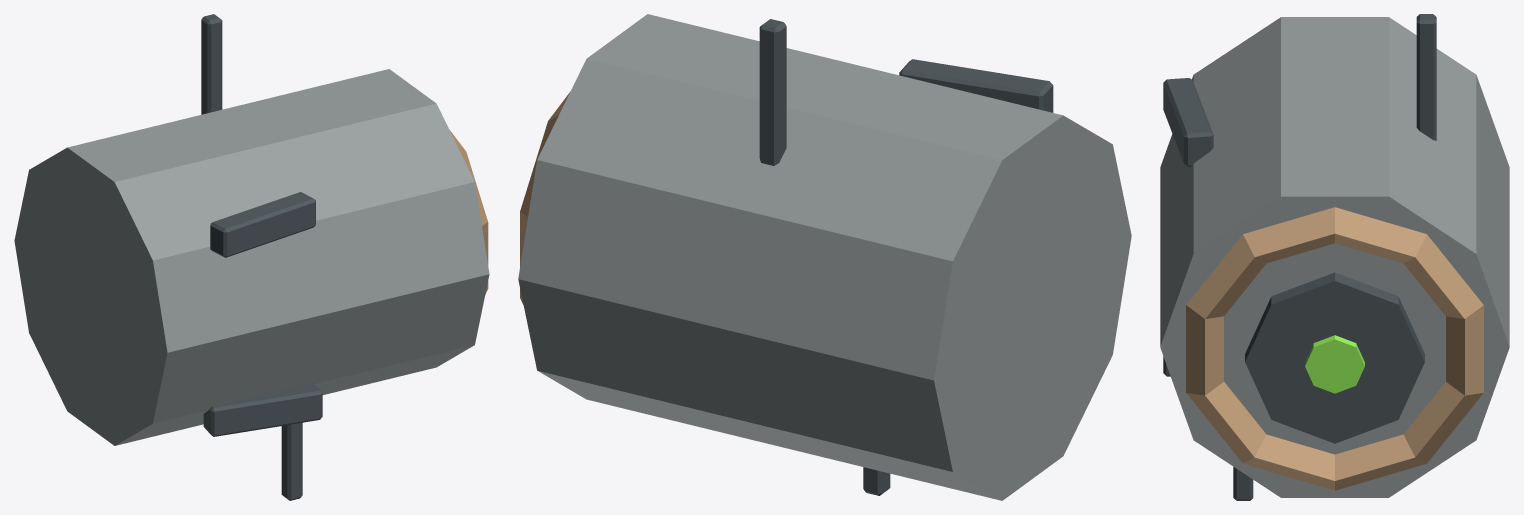
The model's file is CrashedEngine.fbx.
3 renders of one model, left to right at view 1: azimuth 30°, elevation 25°; view 2: azimuth 150°, elevation 25°; view 3: azimuth 270°, elevation 25°, orthographic. The views are drawn at different scales.
Visible parts, largest first — view 1: EngineHousing, EngineFoot, EngineFoot.001, EngineBrace.001, EngineBrace.003, EngineRim; view 2: EngineHousing, EngineBrace.001, EngineFoot.001, EngineRim; view 3: EngineHousing, EngineRim, EngineCore, EngineFoot.001, EngineGlow, EngineBrace.001, EngineBrace.003.
Part boxes in pixels (x1,y1,x2,y2): EngineHousing: (14, 69, 489, 445); EngineFoot: (203, 383, 322, 436); EngineFoot.001: (210, 192, 315, 257); EngineBrace.001: (201, 14, 222, 114); EngineBrace.003: (281, 422, 302, 500); EngineRim: (449, 129, 488, 294); EngineHousing: (518, 14, 1131, 500); EngineBrace.001: (759, 19, 786, 165); EngineFoot.001: (899, 59, 1053, 112); EngineRim: (520, 91, 570, 304); EngineHousing: (1160, 17, 1509, 497); EngineRim: (1186, 207, 1483, 490); EngineCore: (1245, 272, 1424, 443); EngineFoot.001: (1163, 78, 1213, 166); EngineGlow: (1305, 335, 1364, 393); EngineBrace.001: (1416, 14, 1436, 140); EngineBrace.003: (1233, 467, 1253, 500).
Bounding box in the file's own units: 283 × 319 × 210.
